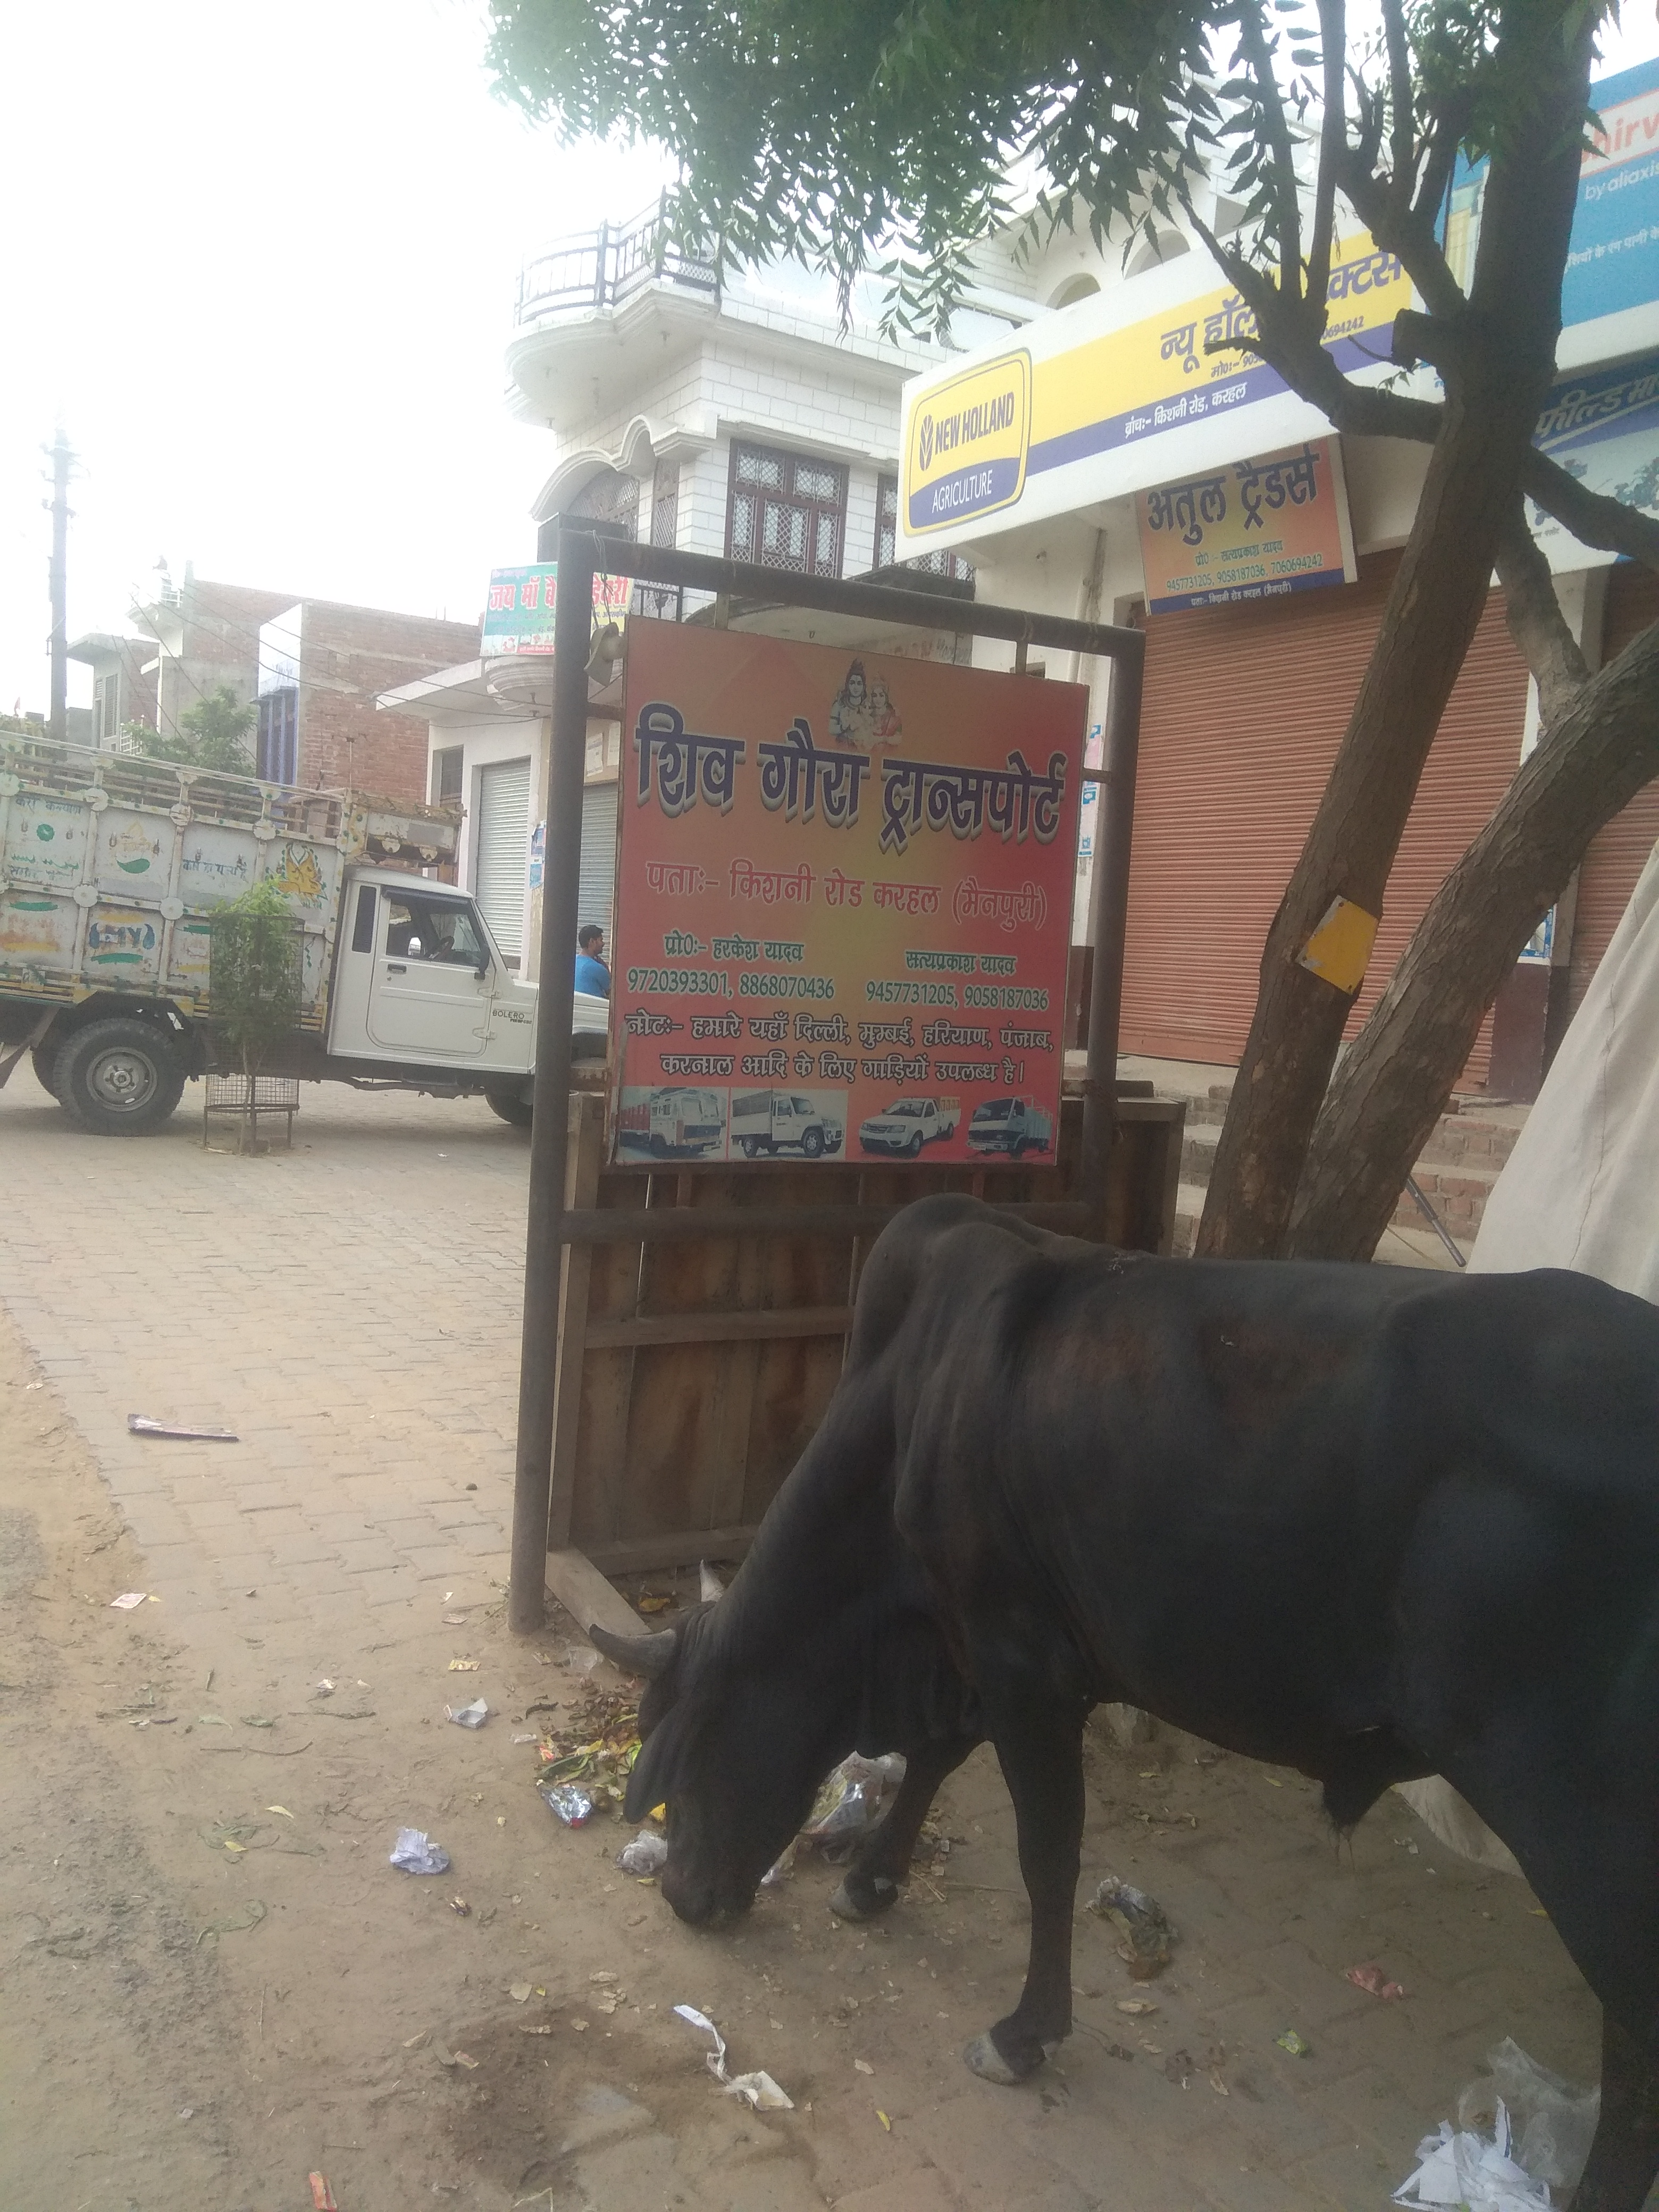text: (615, 608, 1075, 1177), (897, 239, 1429, 540), (1138, 463, 1356, 604)
